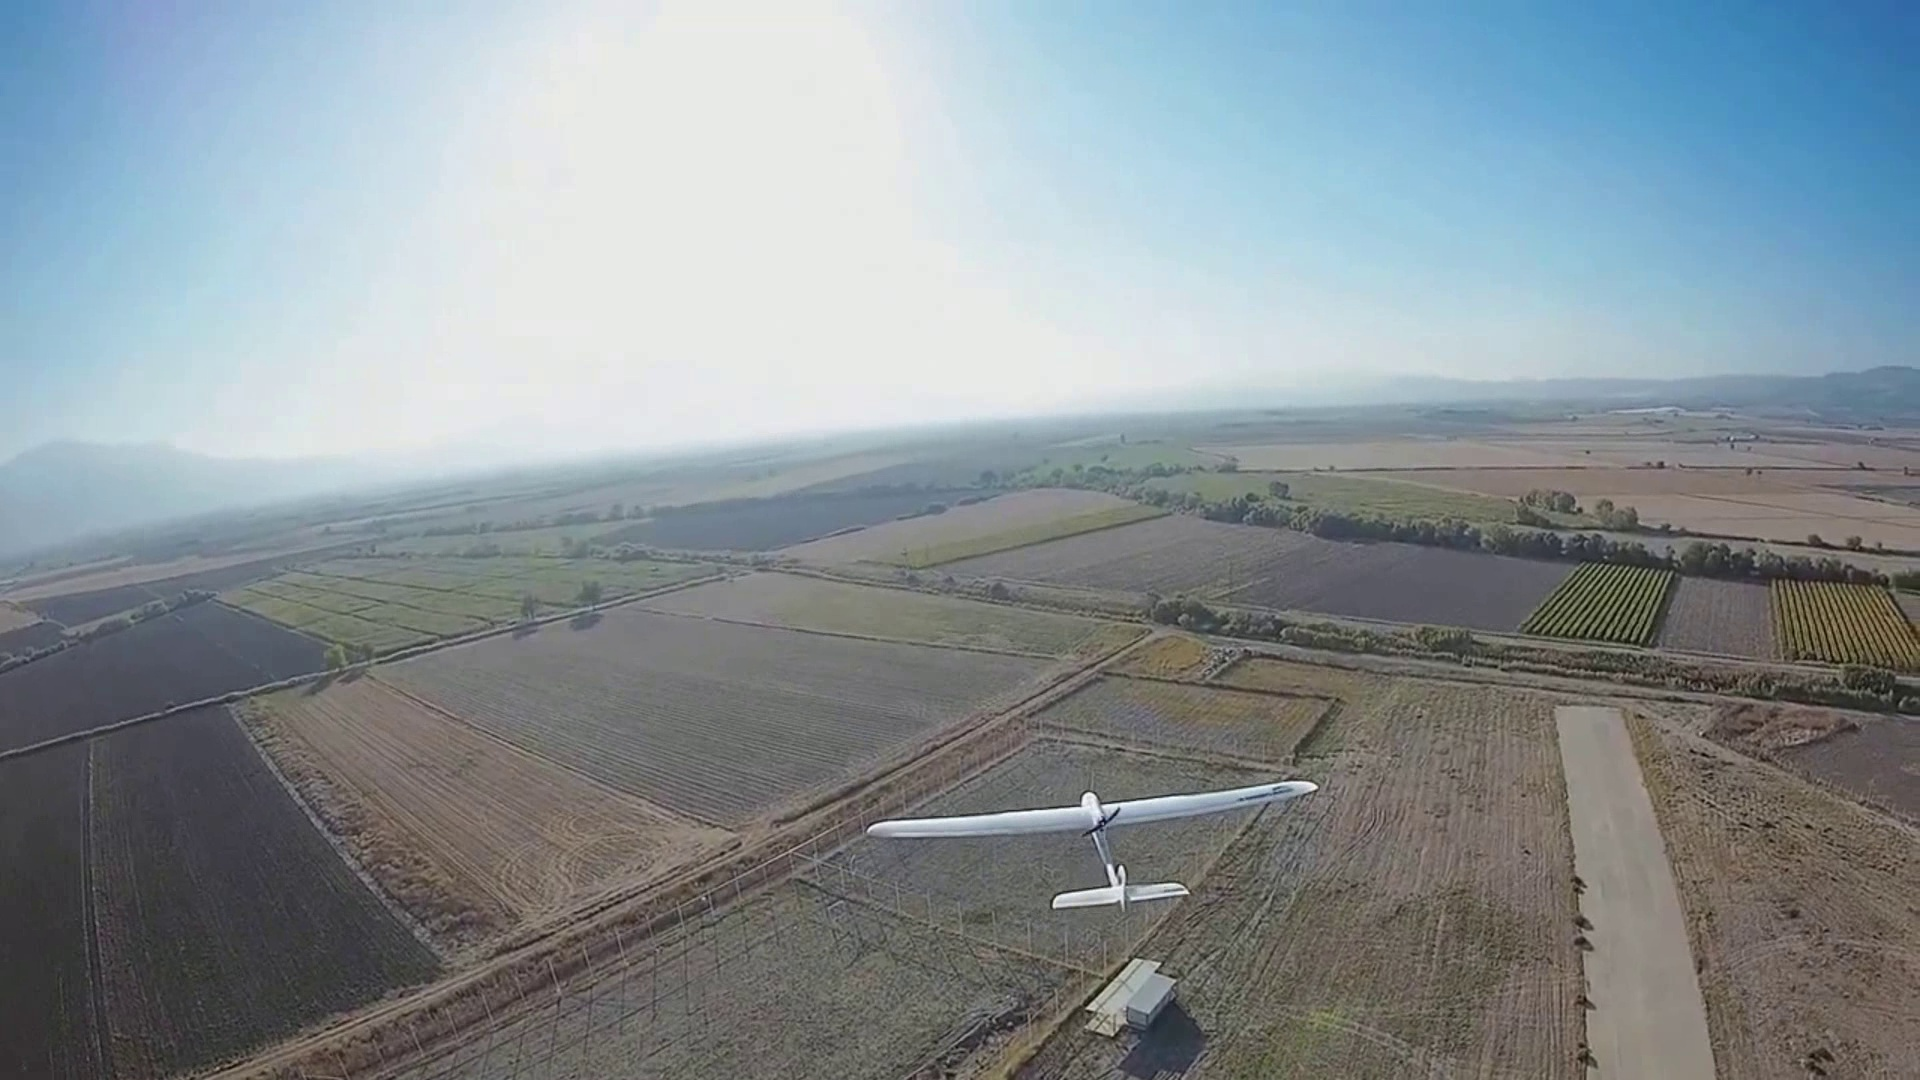airplane: (865, 781, 1325, 912)
